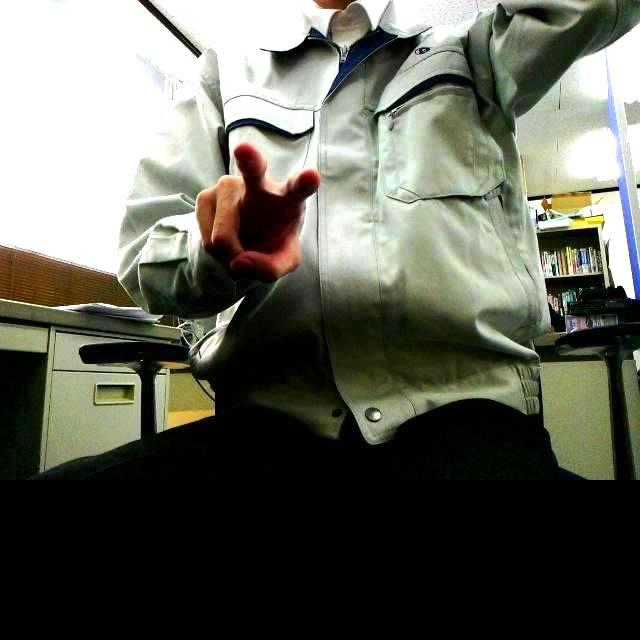tyoki: (197, 143, 321, 282)
